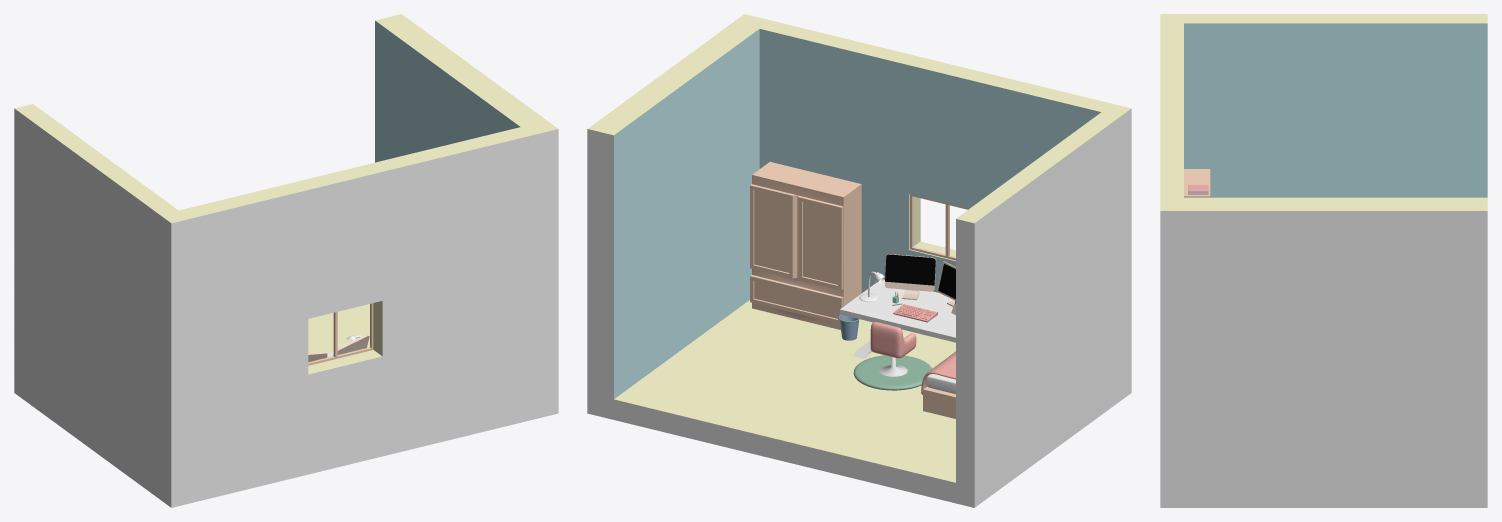
File: Study_Room_19.glb
3 views of the same model, side by side, from view 1: azimuth 30°, elevation 25°; view 2: azimuth 150°, elevation 25°; view 3: azimuth 270°, elevation 25° (orthographic). The views are drawn at different scales.
Parts seen in each view (by area): view 1: Room, Window Frame; view 2: Room, Closet, Table Top, Rug, Desktop Screen, Chair, Bedframe, Window Frame; view 3: Room, Shelf.001.
Part boxes in pixels (<box>): Room: <box>14,14,558,507</box>; Window Frame: <box>308,303,373,365</box>; Room: <box>587,14,1131,507</box>; Closet: <box>750,162,861,329</box>; Table Top: <box>840,279,955,342</box>; Rug: <box>853,355,931,390</box>; Desktop Screen: <box>885,254,935,285</box>; Chair: <box>870,322,916,358</box>; Bedframe: <box>923,386,955,418</box>; Window Frame: <box>910,194,968,260</box>; Room: <box>1160,14,1487,507</box>; Shelf.001: <box>1184,169,1210,197</box>.
Size of the model in its own units: 27.72 by 19.48 by 19.48.
